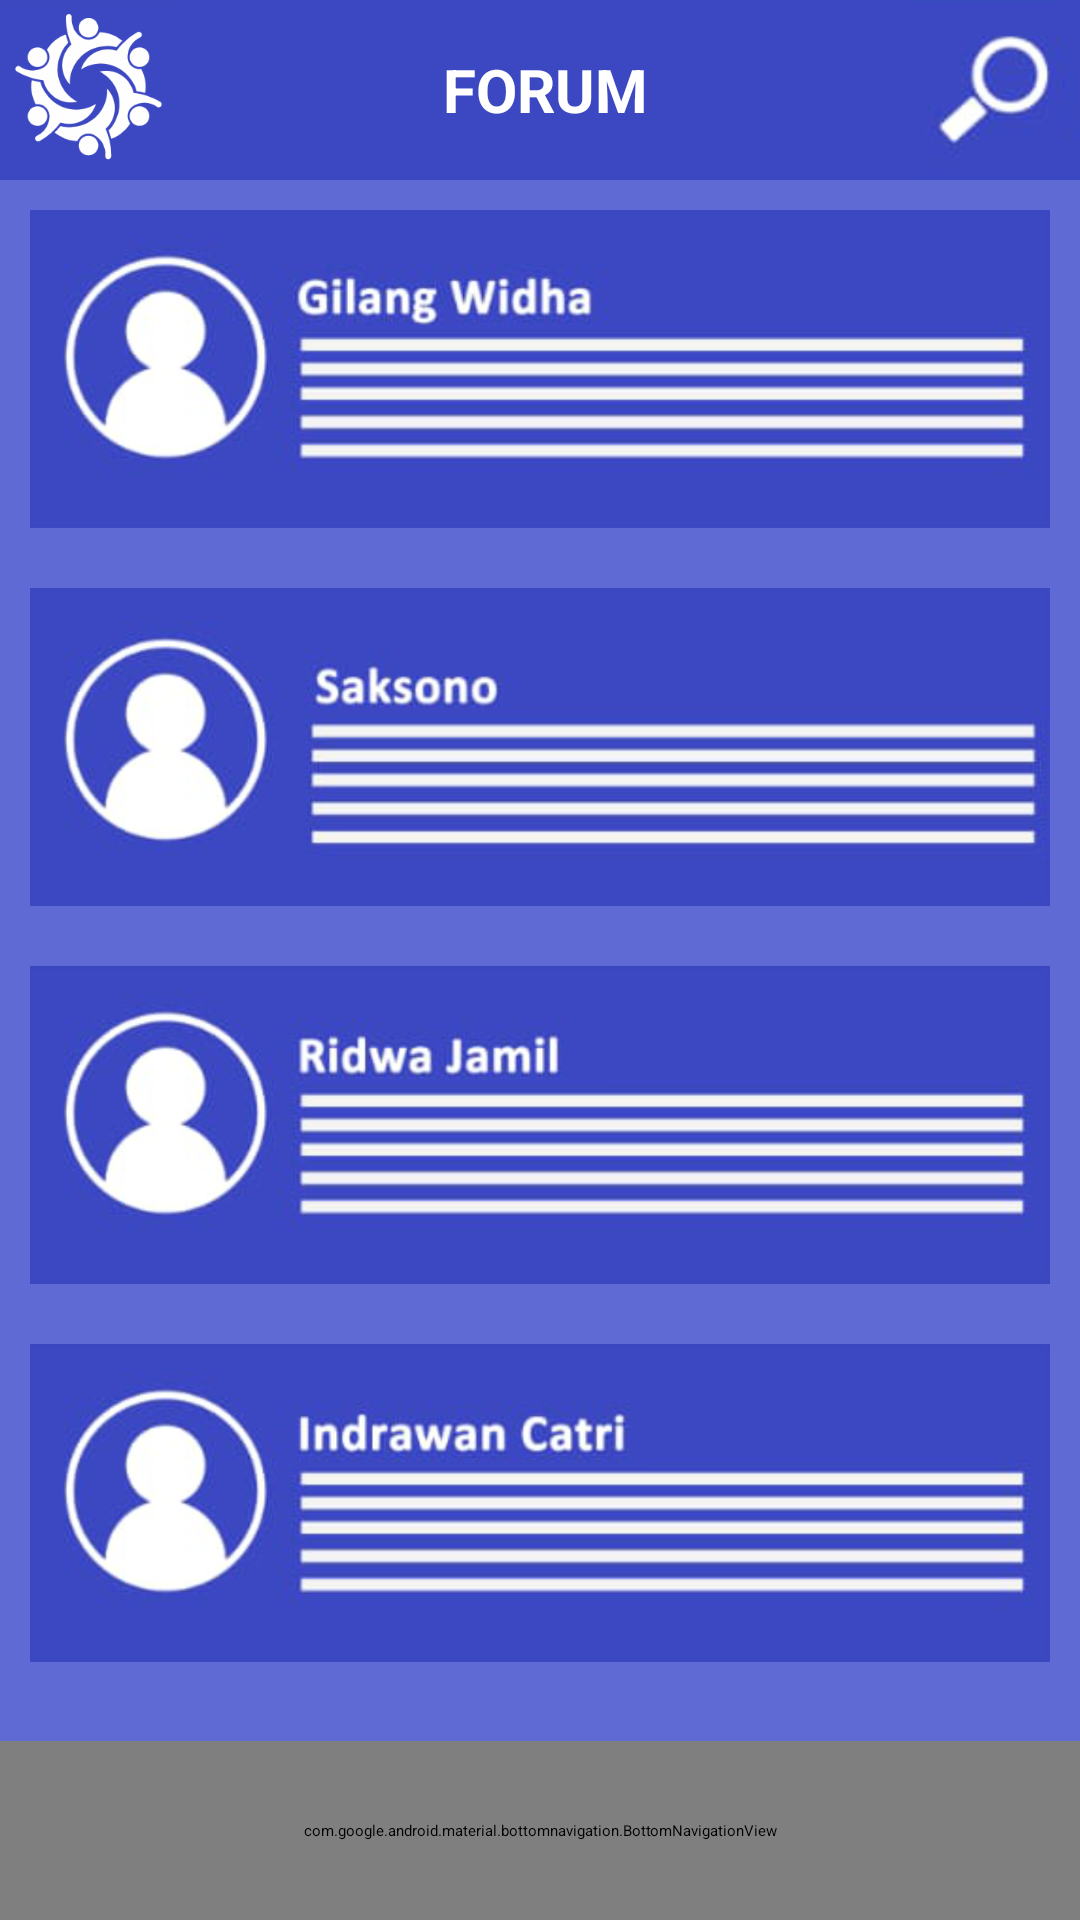

Screen size 1080×1920. Icon name, then its center in pixels as [x,y]:
circle nav: [88,87]
search nav: [994,89]
